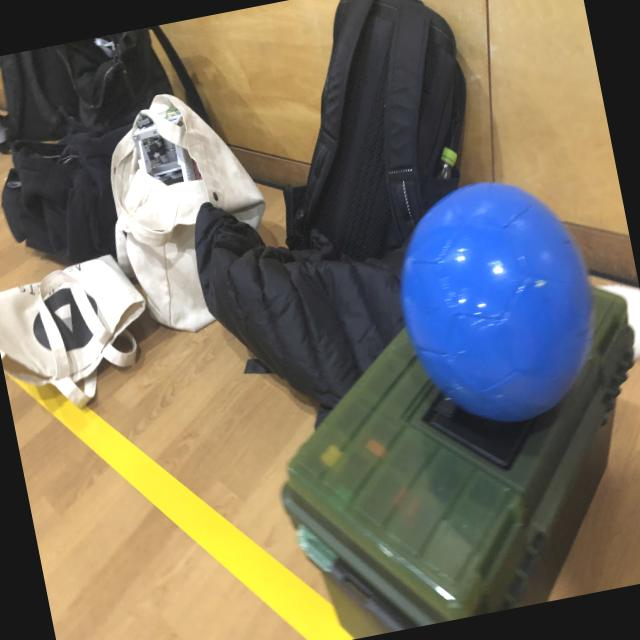blue_ball: (384, 165, 612, 440)
